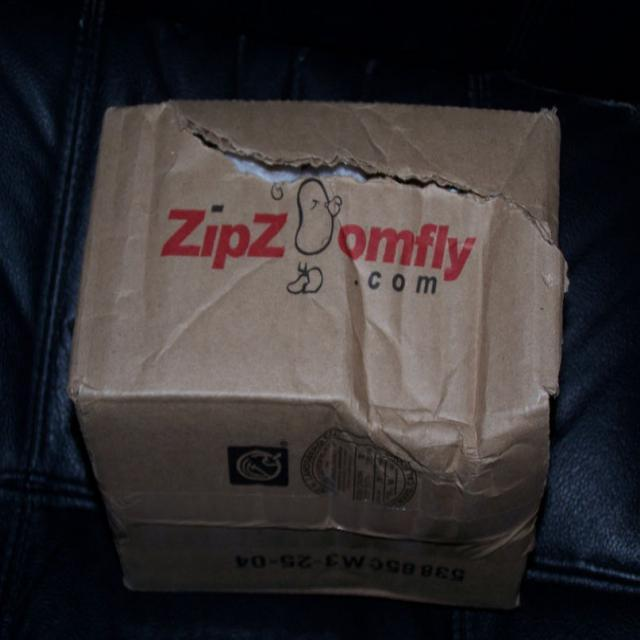damaged: (179, 115, 518, 204)
